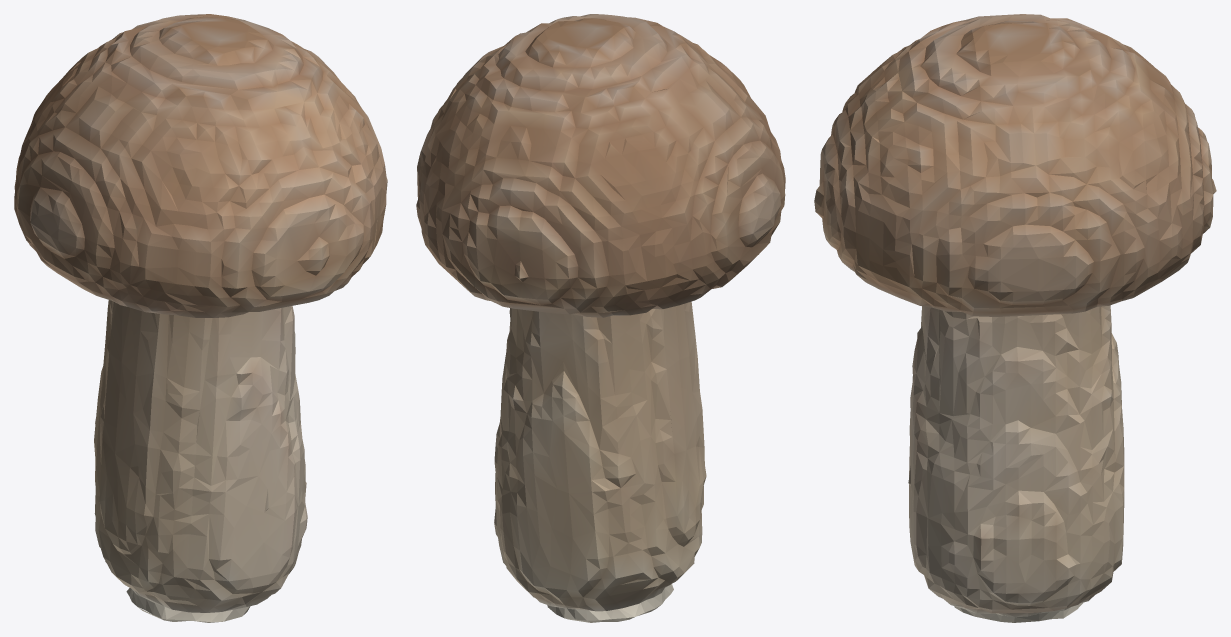
File: mushroom_brown.glb
3 renders of one model, left to right at view 1: azimuth 30°, elevation 25°; view 2: azimuth 150°, elevation 25°; view 3: azimuth 270°, elevation 25°, orthographic. The views are drawn at different scales.
Parts seen in each view (by area): view 1: world; view 2: world; view 3: world.
Part boxes in pixels (x1,y1,x2,y2): world: (14,14,387,622); world: (416,14,785,622); world: (814,14,1216,622).
Size of the model in its own units: 0.2361 by 0.4 by 0.2515.
